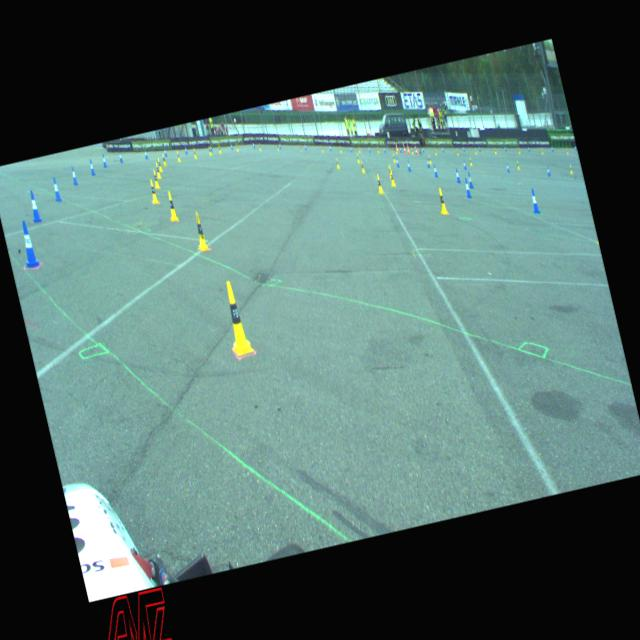blue_cone: (15, 219, 40, 269), (26, 188, 42, 223), (528, 188, 540, 215), (50, 176, 61, 202), (462, 177, 472, 199), (69, 164, 78, 184), (87, 157, 95, 175), (466, 171, 474, 188), (454, 166, 461, 182), (100, 153, 107, 168), (431, 163, 438, 177), (117, 150, 123, 162), (406, 158, 411, 172), (162, 146, 168, 156), (394, 155, 399, 167), (143, 148, 148, 159), (545, 166, 550, 176), (505, 162, 510, 172), (462, 158, 466, 170), (426, 157, 430, 167), (184, 145, 188, 154)
large_orange_cone: (405, 142, 410, 154), (413, 143, 418, 154), (402, 142, 406, 152), (394, 142, 398, 152)
yellow_cone: (218, 278, 254, 356), (190, 210, 209, 252), (164, 190, 178, 222), (434, 187, 448, 216), (147, 178, 158, 204), (374, 172, 384, 194), (152, 168, 160, 188), (387, 169, 395, 186), (154, 160, 161, 178), (160, 152, 168, 167), (156, 156, 162, 172), (191, 146, 197, 159), (175, 150, 181, 162), (334, 156, 339, 168), (515, 159, 520, 170), (360, 159, 364, 172), (207, 145, 212, 155), (568, 164, 573, 174), (468, 156, 472, 165)
